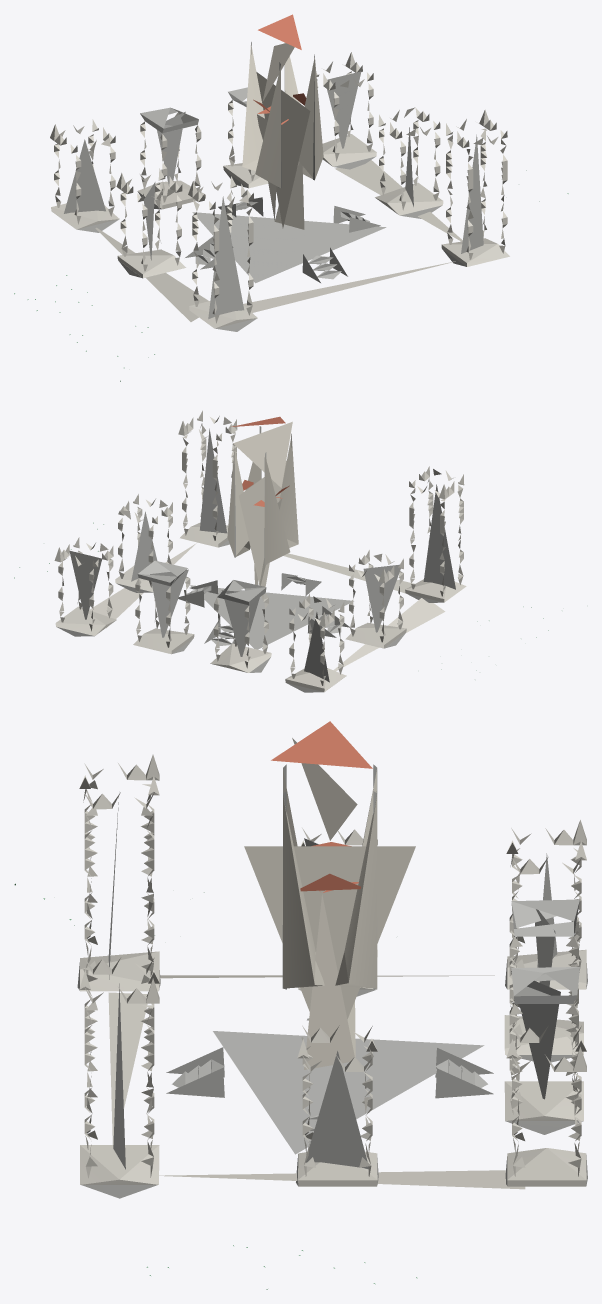
File: chunk_1_0_lod2.glb
3 views of the same model, one above another, from view 1: azimuth 30°, elevation 25°; view 2: azimuth 150°, elevation 25°; view 3: azimuth 270°, elevation 25° (orthographic). The views are drawn at different scales.
Parts seen in each view (by area): view 1: Batched_Chunk_1_0.001; view 2: Batched_Chunk_1_0.001; view 3: Batched_Chunk_1_0.001.
Boxes of the visible parts, bbox=[...] form: Batched_Chunk_1_0.001: bbox=[14, 14, 568, 381]; Batched_Chunk_1_0.001: bbox=[14, 410, 548, 692]; Batched_Chunk_1_0.001: bbox=[14, 721, 587, 1289].
Size of the model in its own units: 88.11 by 35.29 by 52.73.
